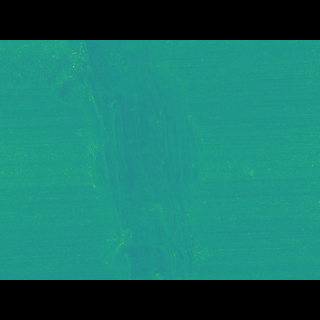Loch: (57, 70, 210, 250)
